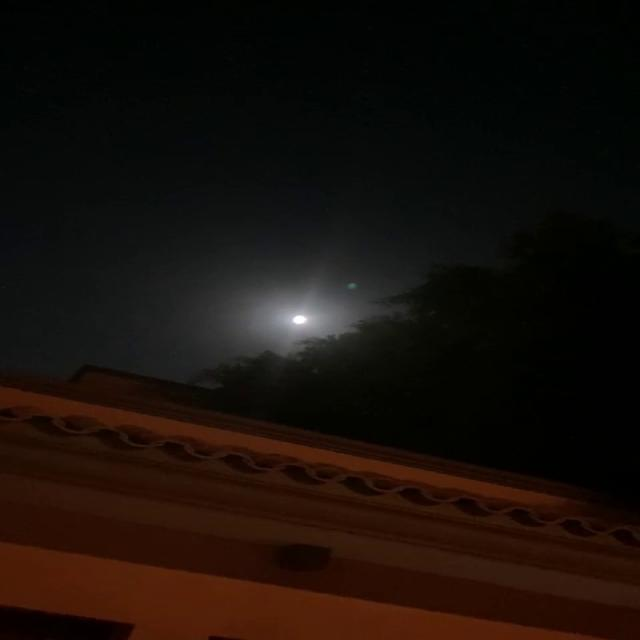moon: (269, 302, 324, 330)
